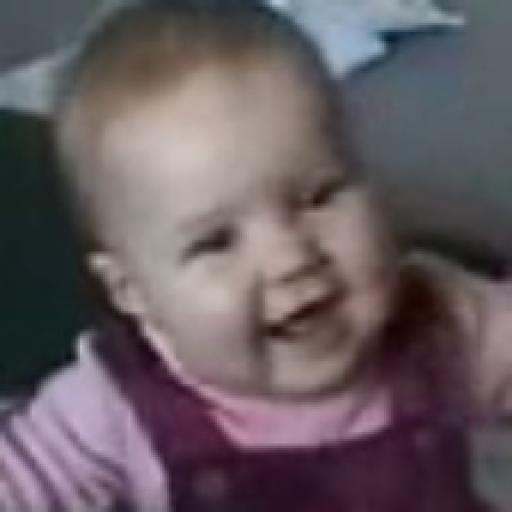Autism: (35, 0, 462, 418)
